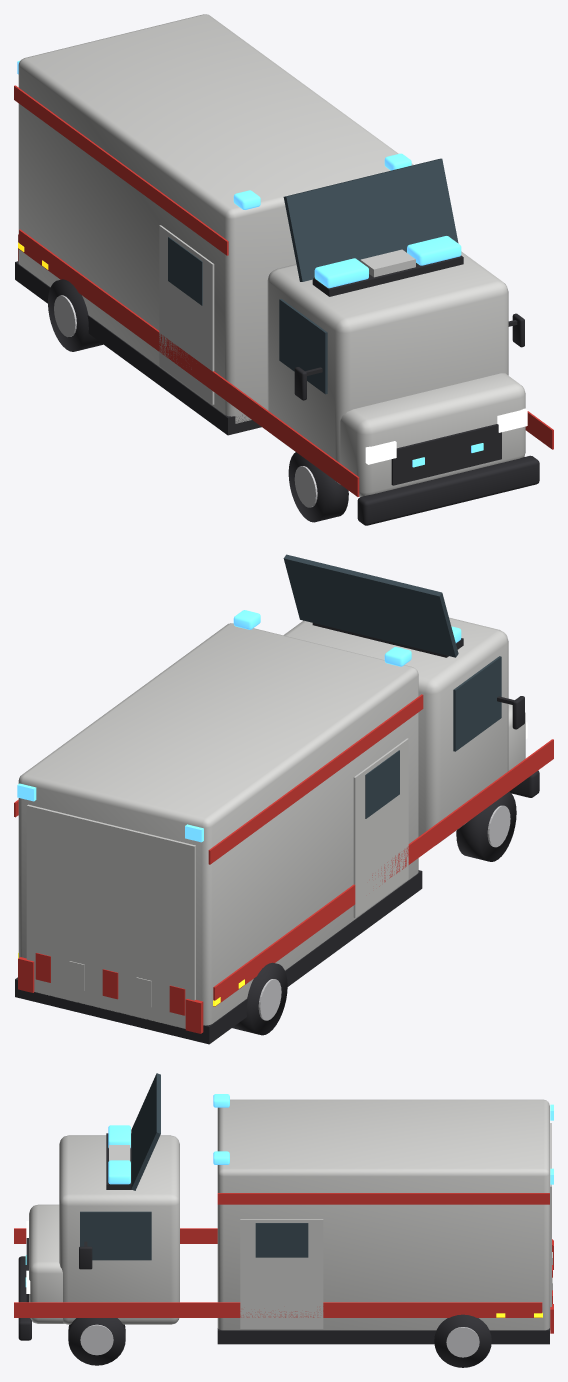
Rendered from rtw_rettungswagen.glb.
The picture shows the model from 3 angles, top to bottom: view 1: azimuth 30°, elevation 25°; view 2: azimuth 150°, elevation 25°; view 3: azimuth 270°, elevation 25°; orthographic projection. The views are drawn at different scales.
Parts seen in each view (by area): view 1: RTW; view 2: RTW; view 3: RTW.
Part boxes in pixels (x1,y1,x2,y2): RTW: (14,14,553,525); RTW: (14,554,553,1044); RTW: (14,1073,553,1367).
Size of the model in its own units: 2.66 by 3.31 by 7.16.
